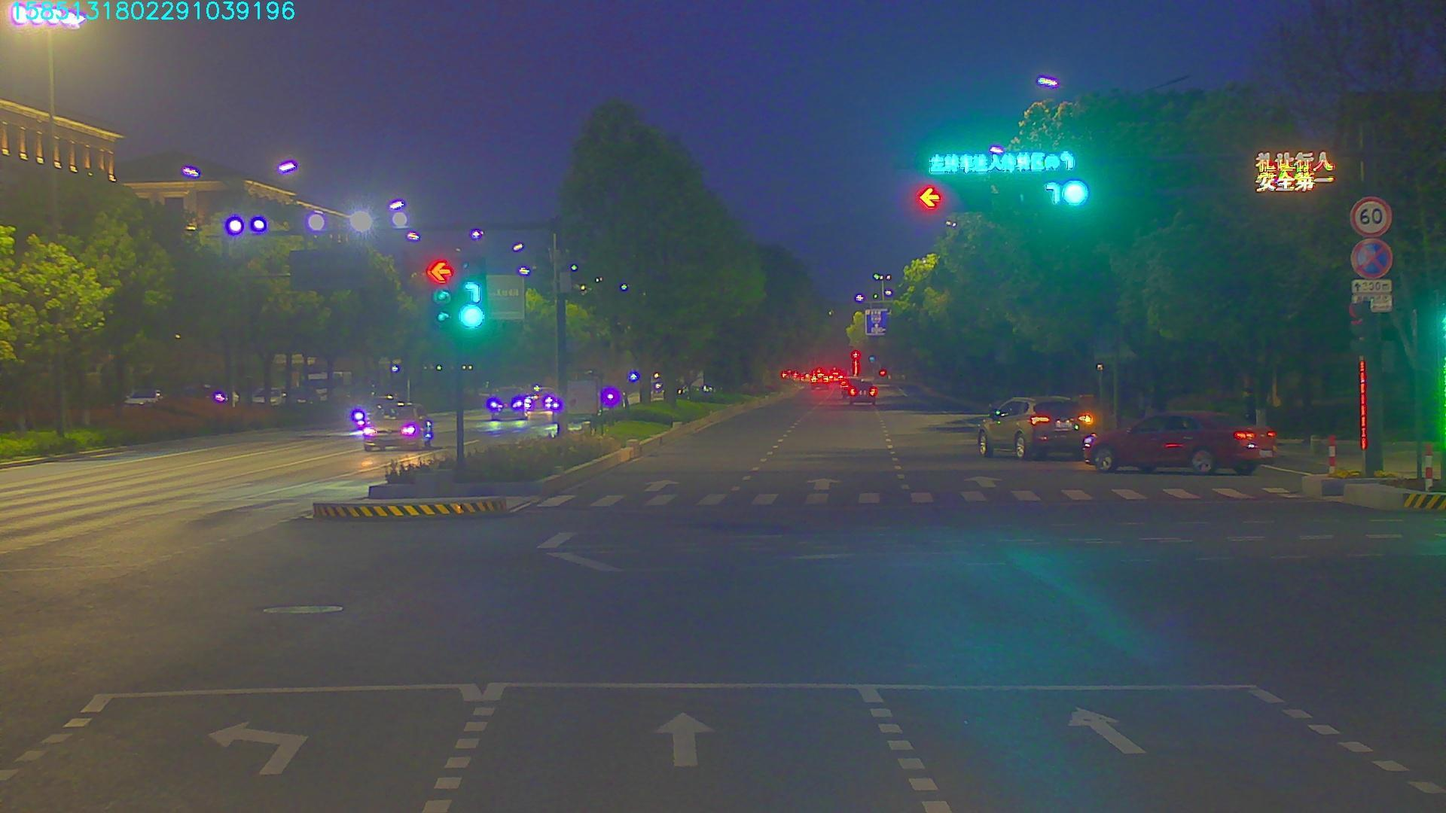green: (1039, 175, 1090, 207)
red: (915, 182, 961, 212)
wait_on: (921, 142, 1068, 173)
